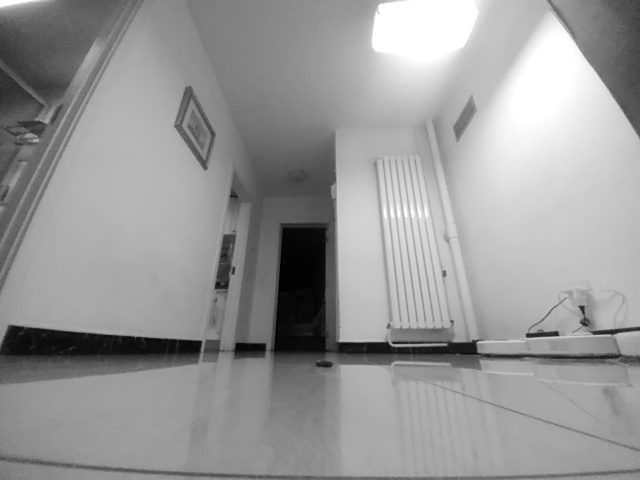pet feces: (313, 359, 334, 370)
